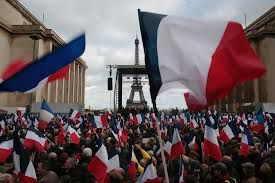French Flag: (138, 10, 268, 110), (13, 132, 39, 181), (205, 115, 221, 159), (37, 100, 52, 130), (170, 126, 184, 158), (219, 122, 235, 143), (240, 126, 252, 154), (89, 116, 108, 127), (69, 108, 81, 119), (133, 115, 144, 124), (189, 117, 198, 127)
